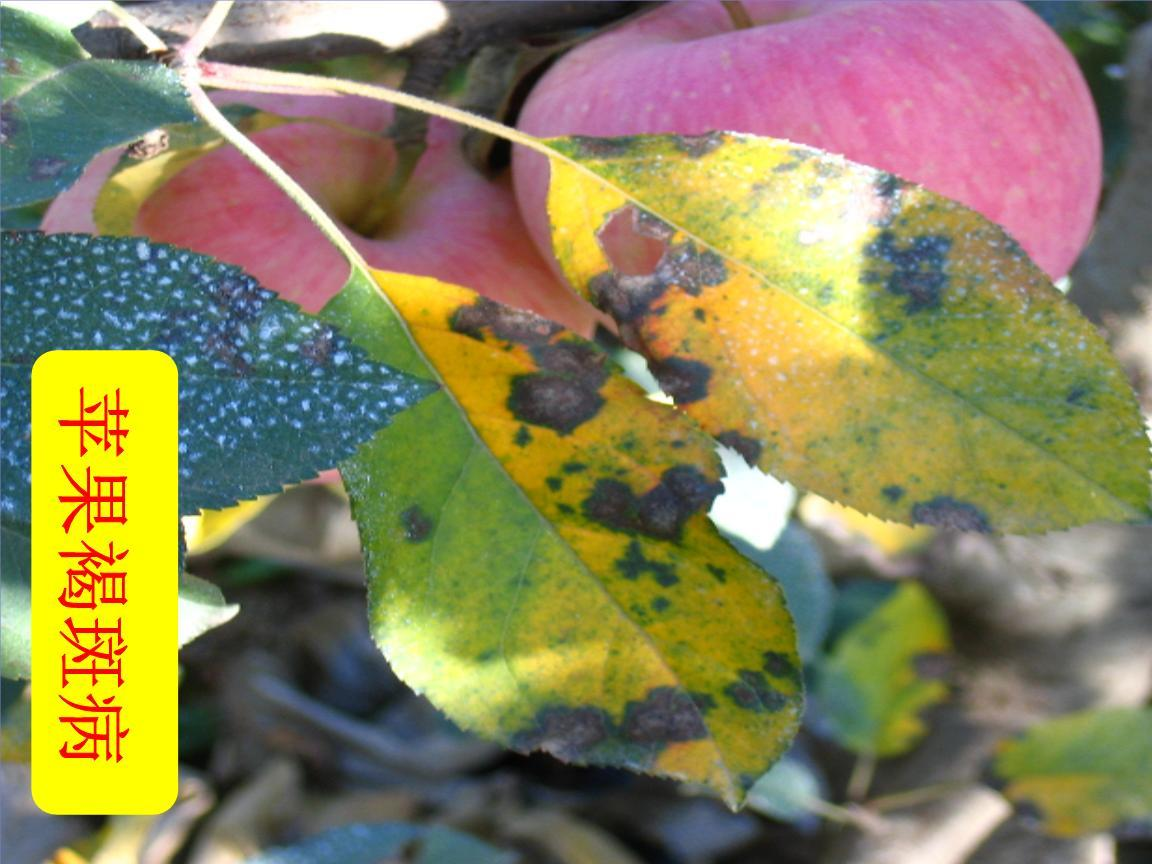apple: (521, 16, 1101, 294), (166, 104, 594, 338)
